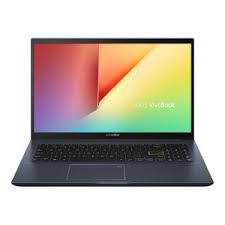phone: (11, 37, 216, 189)
